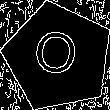O_S: (34, 29, 83, 85)
